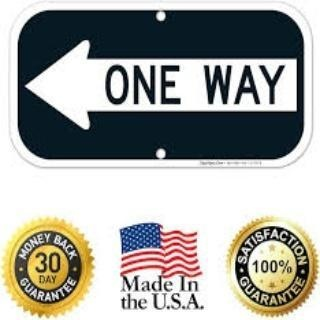sign_oneway_left: (18, 2, 307, 162)
